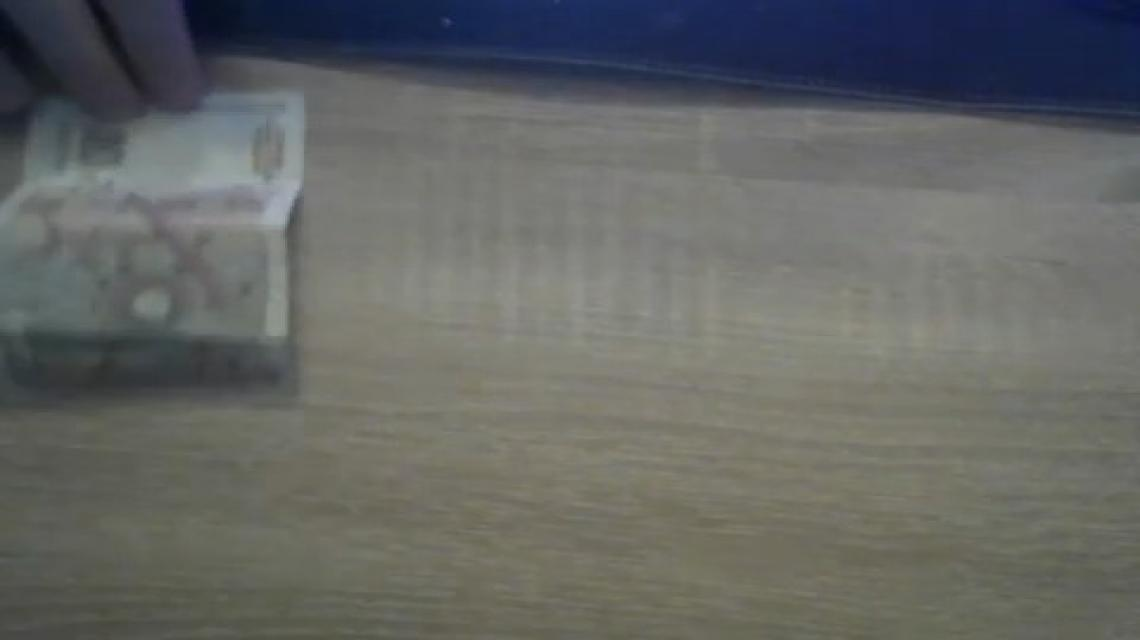10leva: (0, 91, 304, 393)
